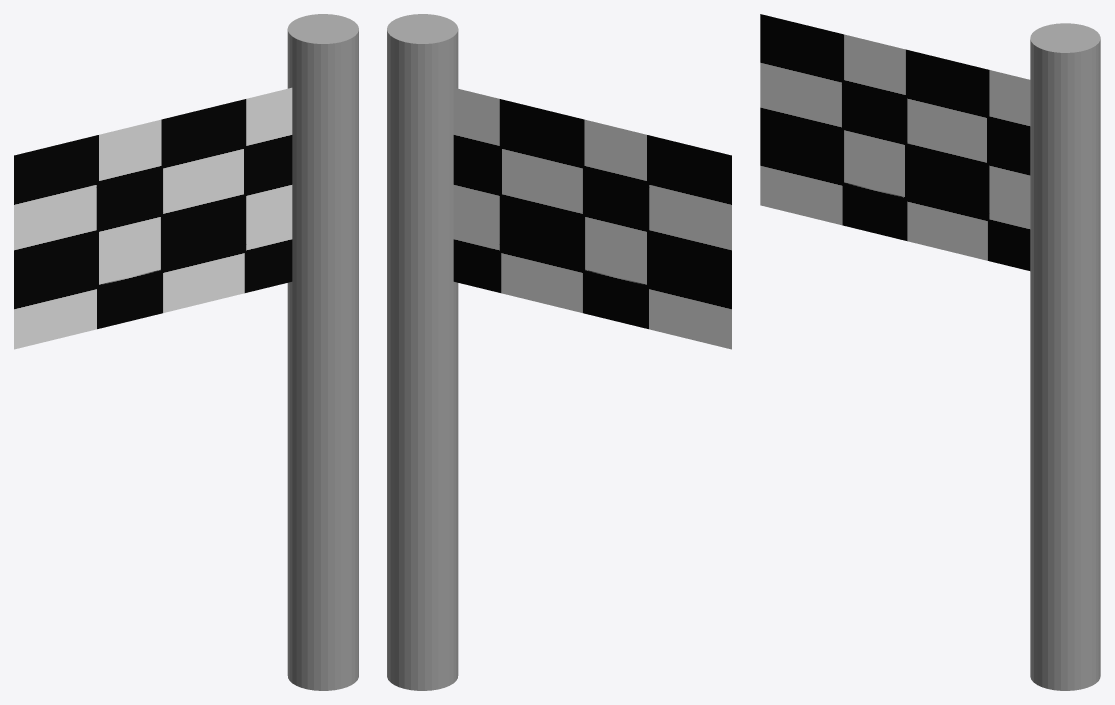
The model's file is goal.obj.
3 views of the same model, side by side, from view 1: azimuth 30°, elevation 25°; view 2: azimuth 150°, elevation 25°; view 3: azimuth 330°, elevation 25° (orthographic).
Parts seen in each view (by area): view 1: 平面; view 2: 平面; view 3: 平面.
Boxes of the visible parts, x1,y1,x2,y2 form: 平面: (14,14,358,690); 平面: (387,14,731,690); 平面: (760,14,1100,690).
Bounding box in the file's own units: 0.5504 × 1 × 0.1.
1 material, 1 textured.
